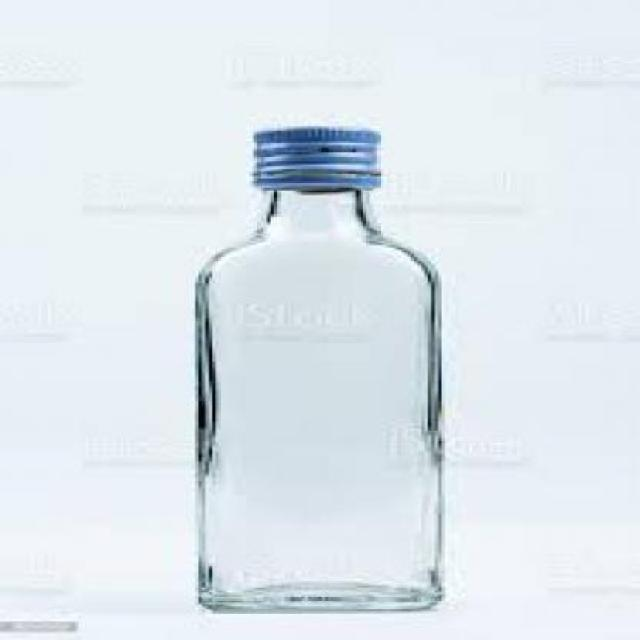kaca: (192, 186, 438, 609)
